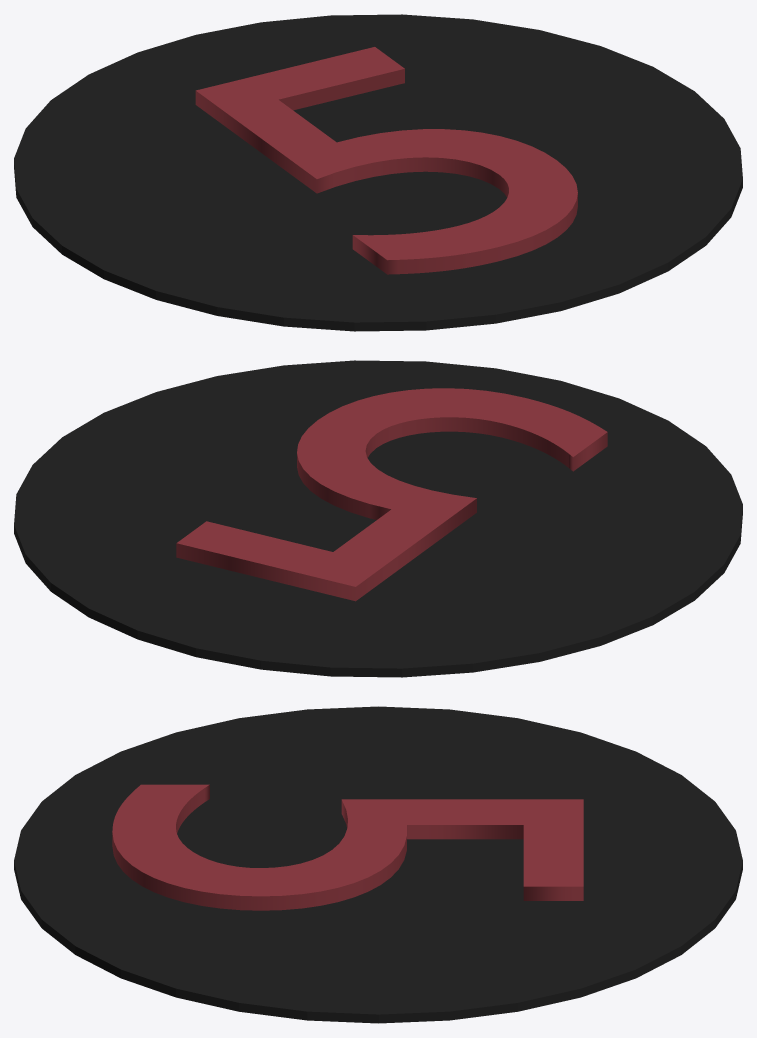
The model's file is five-cirlce.fbx.
3 renders of one model, top to bottom at view 1: azimuth 30°, elevation 25°; view 2: azimuth 150°, elevation 25°; view 3: azimuth 270°, elevation 25°, orthographic.
Visible parts, largest first — view 1: Cylinder, Text; view 2: Cylinder, Text; view 3: Cylinder, Text.
Part boxes in pixels (x1,y1,x2,y2): Cylinder: (14, 14, 742, 331); Text: (195, 47, 577, 274); Cylinder: (14, 360, 742, 677); Text: (176, 388, 607, 601); Cylinder: (14, 706, 742, 1023); Text: (112, 784, 583, 910).
Size of the model in its own units: 141 by 6.67 by 141.
